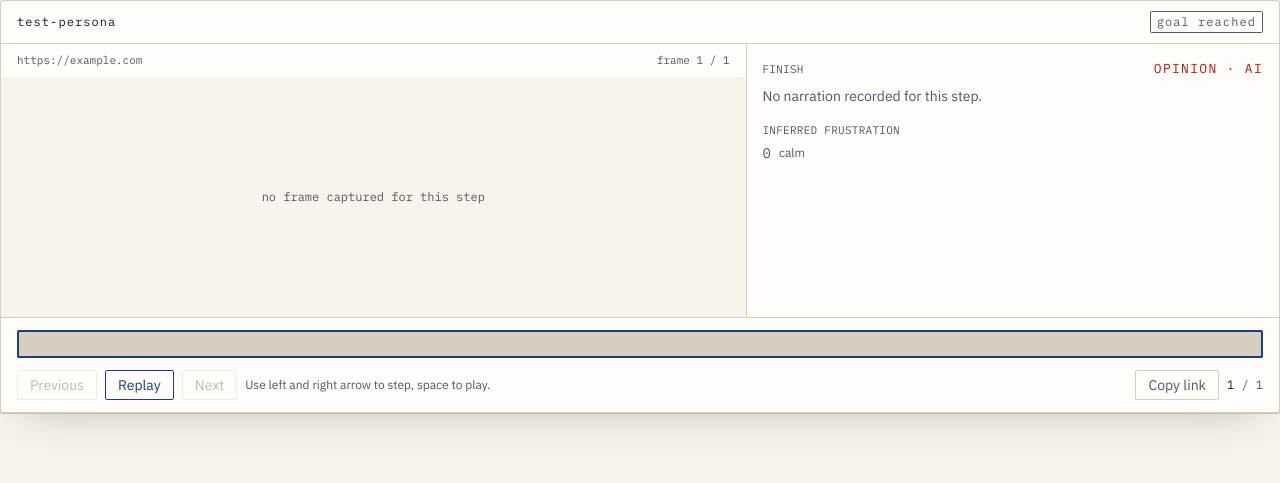
reports clipboard denied with manual link copy guidance
Click the button with aria-label "Copy a link to this moment": (1177, 384) left=1136, top=370, right=1219, bottom=400
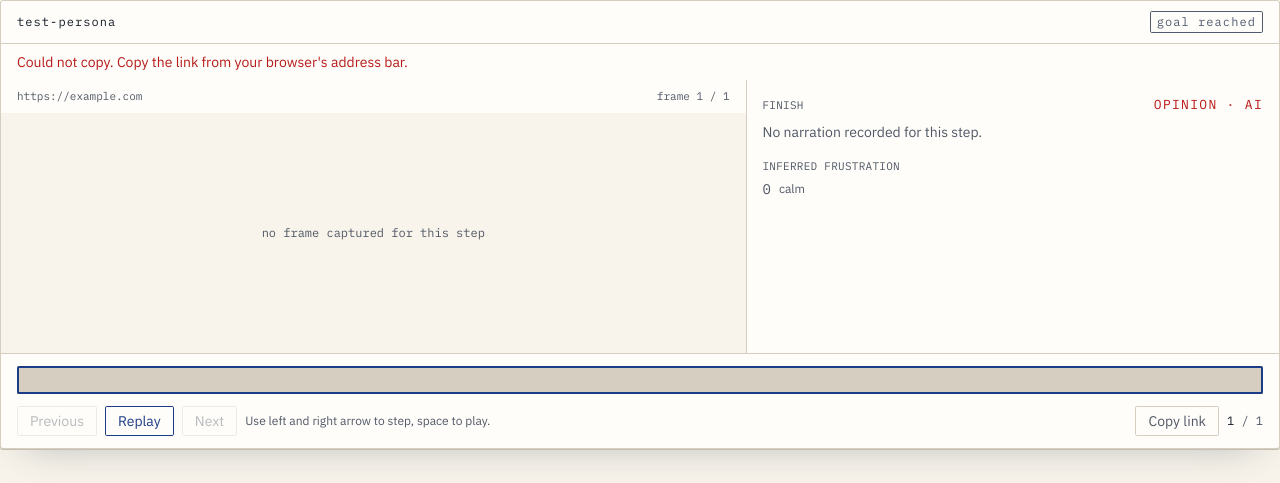
Result: the message reads "Could not copy. Copy the link from your browser's address bar." at left=17, top=53, right=408, bottom=71
